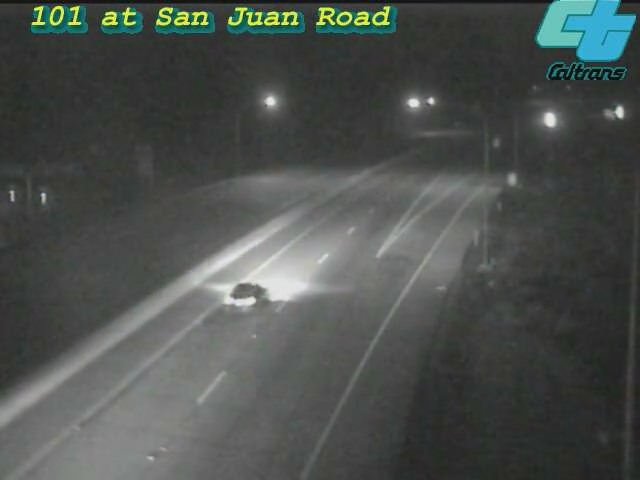vehicle: (201, 258, 281, 338), (585, 90, 635, 140), (527, 94, 577, 144), (595, 87, 640, 137)
